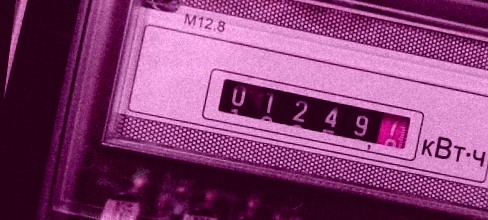0: (228, 80, 248, 108)
1: (260, 87, 277, 115)
2: (289, 97, 309, 125)
4: (322, 102, 341, 129)
7: (385, 111, 403, 139)
9: (350, 111, 370, 138)
screen: (197, 65, 429, 165)
